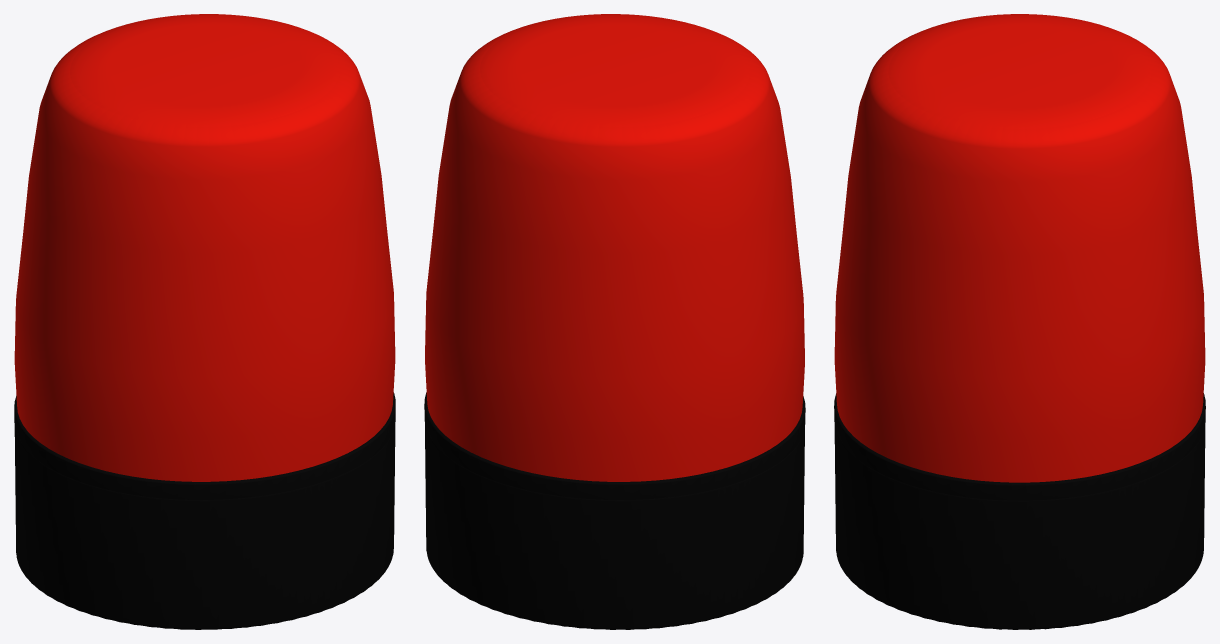
Rendered from emergency.glb.
3 views of the same model, side by side, from view 1: azimuth 30°, elevation 25°; view 2: azimuth 150°, elevation 25°; view 3: azimuth 270°, elevation 25° (orthographic).
Visible parts, largest first — view 1: Cylinder.001_1, Cylinder_0; view 2: Cylinder.001_1, Cylinder_0; view 3: Cylinder.001_1, Cylinder_0.
Part boxes in pixels (left/top/right/bottom): Cylinder.001_1: left=14, top=14, right=395, bottom=481; Cylinder_0: left=14, top=392, right=395, bottom=629; Cylinder.001_1: left=425, top=14, right=804, bottom=481; Cylinder_0: left=424, top=392, right=805, bottom=629; Cylinder.001_1: left=834, top=14, right=1205, bottom=482; Cylinder_0: left=834, top=393, right=1205, bottom=629.
Size of the model in its own units: 0.0151 by 0.0212 by 0.0147.
